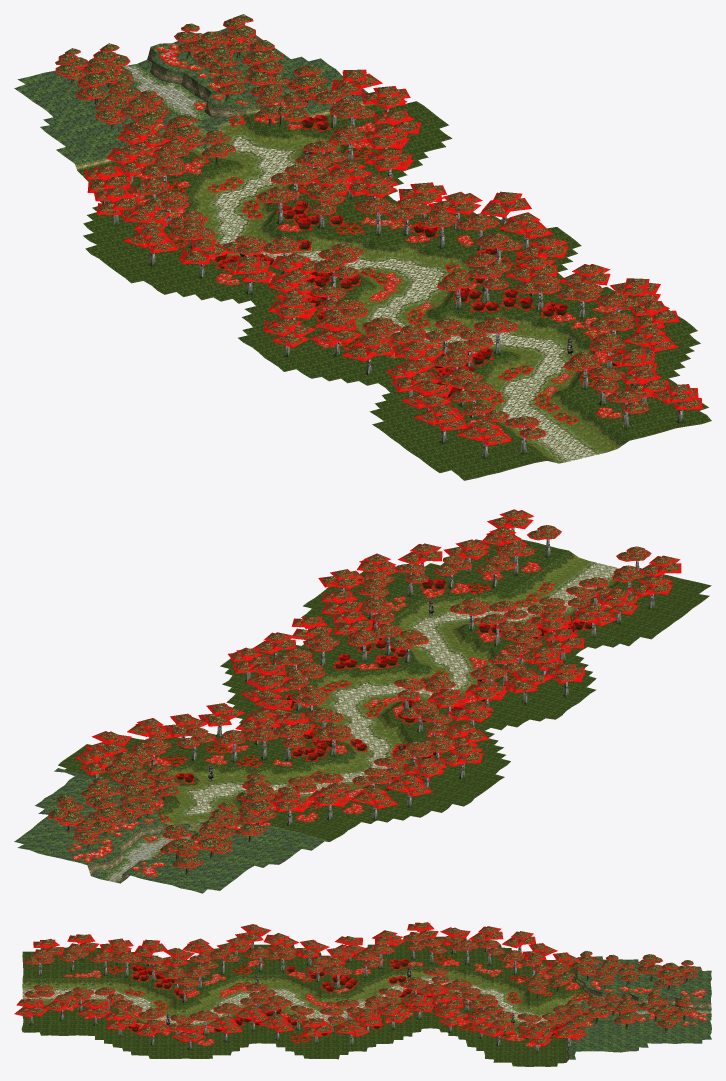
File: AcademyTrail1.obj
3 views of the same model, one above another, from view 1: azimuth 30°, elevation 25°; view 2: azimuth 150°, elevation 25°; view 3: azimuth 270°, elevation 25° (orthographic). The views are drawn at different scales.
Parts seen in each view (by area): view 1: Object.007; view 2: Object.007; view 3: Object.007.
Boxes of the visible parts, x1=… form: Object.007: x1=14, y1=14, x2=711, y2=480; Object.007: x1=14, y1=509, x2=711, y2=893; Object.007: x1=14, y1=922, x2=711, y2=1066.
Size of the model in its own units: 68.28 by 9.08 by 154.
Materials: 8 (8 with a texture image).
